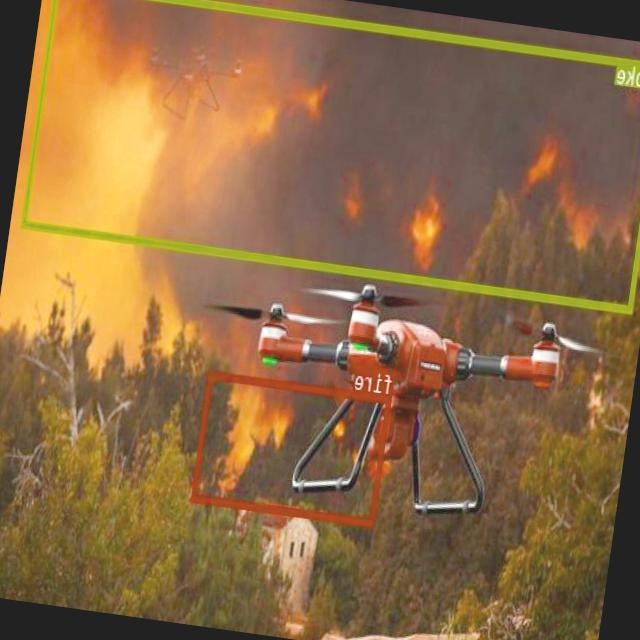fire: (192, 370, 393, 526)
smoke: (21, 0, 640, 313)
